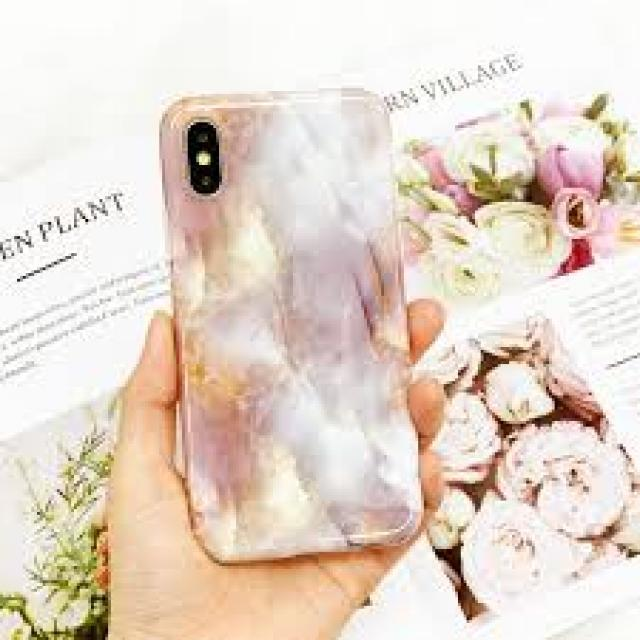Phone: (154, 85, 428, 568)
